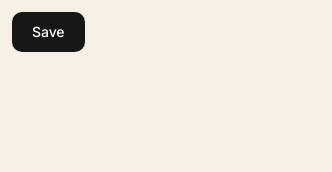
Test: Button auto-pending › stays busy while an async onClick runs and ignores extra taps
Click the button "Save" at (48, 32), box [12,12,84,52]
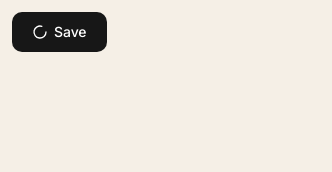
Check: the button "Save" has attribute aria-busy="true"
Click the button "Save" at (59, 32), box [12,12,106,52]
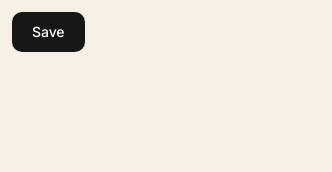
Check: the button "Save" does not have attribute aria-busy, box [12,12,84,52]
